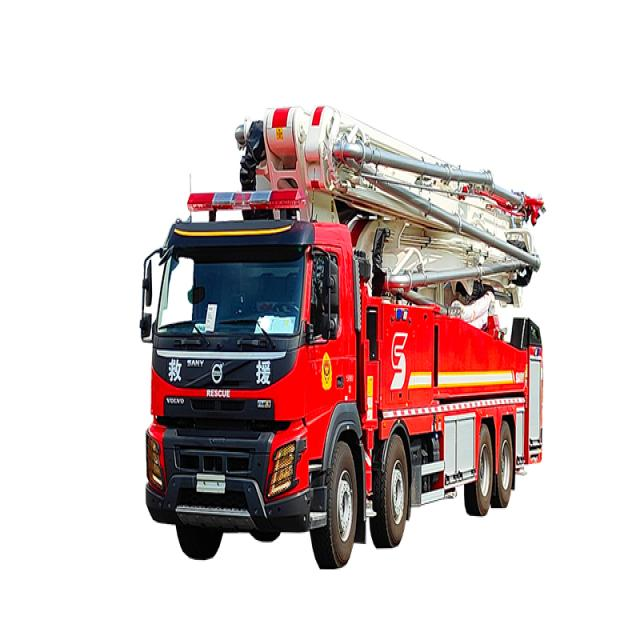emergency: (141, 106, 544, 566)
